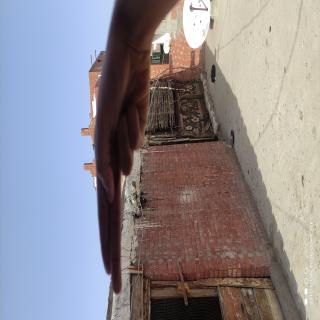AYN: (9, 205, 144, 320)
